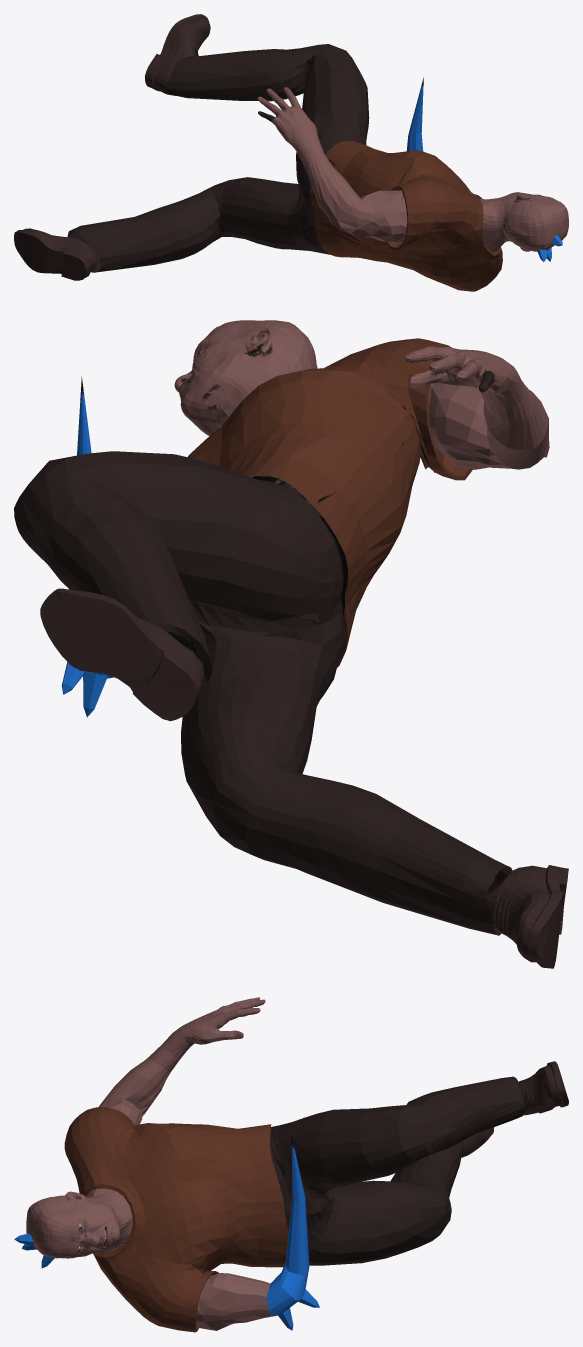
Rendered from Enforcer_Apherene.obj.
The picture shows the model from 3 angles, top to bottom: view 1: azimuth 30°, elevation 25°; view 2: azimuth 150°, elevation 25°; view 3: azimuth 270°, elevation 25°; orthographic projection. The views are drawn at different scales.
Visible parts, largest first — view 1: male_muscle_13290.obj; view 2: male_muscle_13290.obj; view 3: male_muscle_13290.obj.
Boxes of the visible parts, box(x1,y1,x2,y2) form: male_muscle_13290.obj: box(14, 14, 568, 291); male_muscle_13290.obj: box(14, 320, 568, 968); male_muscle_13290.obj: box(14, 997, 568, 1332).
Size of the model in its own units: 12.02 by 6.7 by 14.04.
